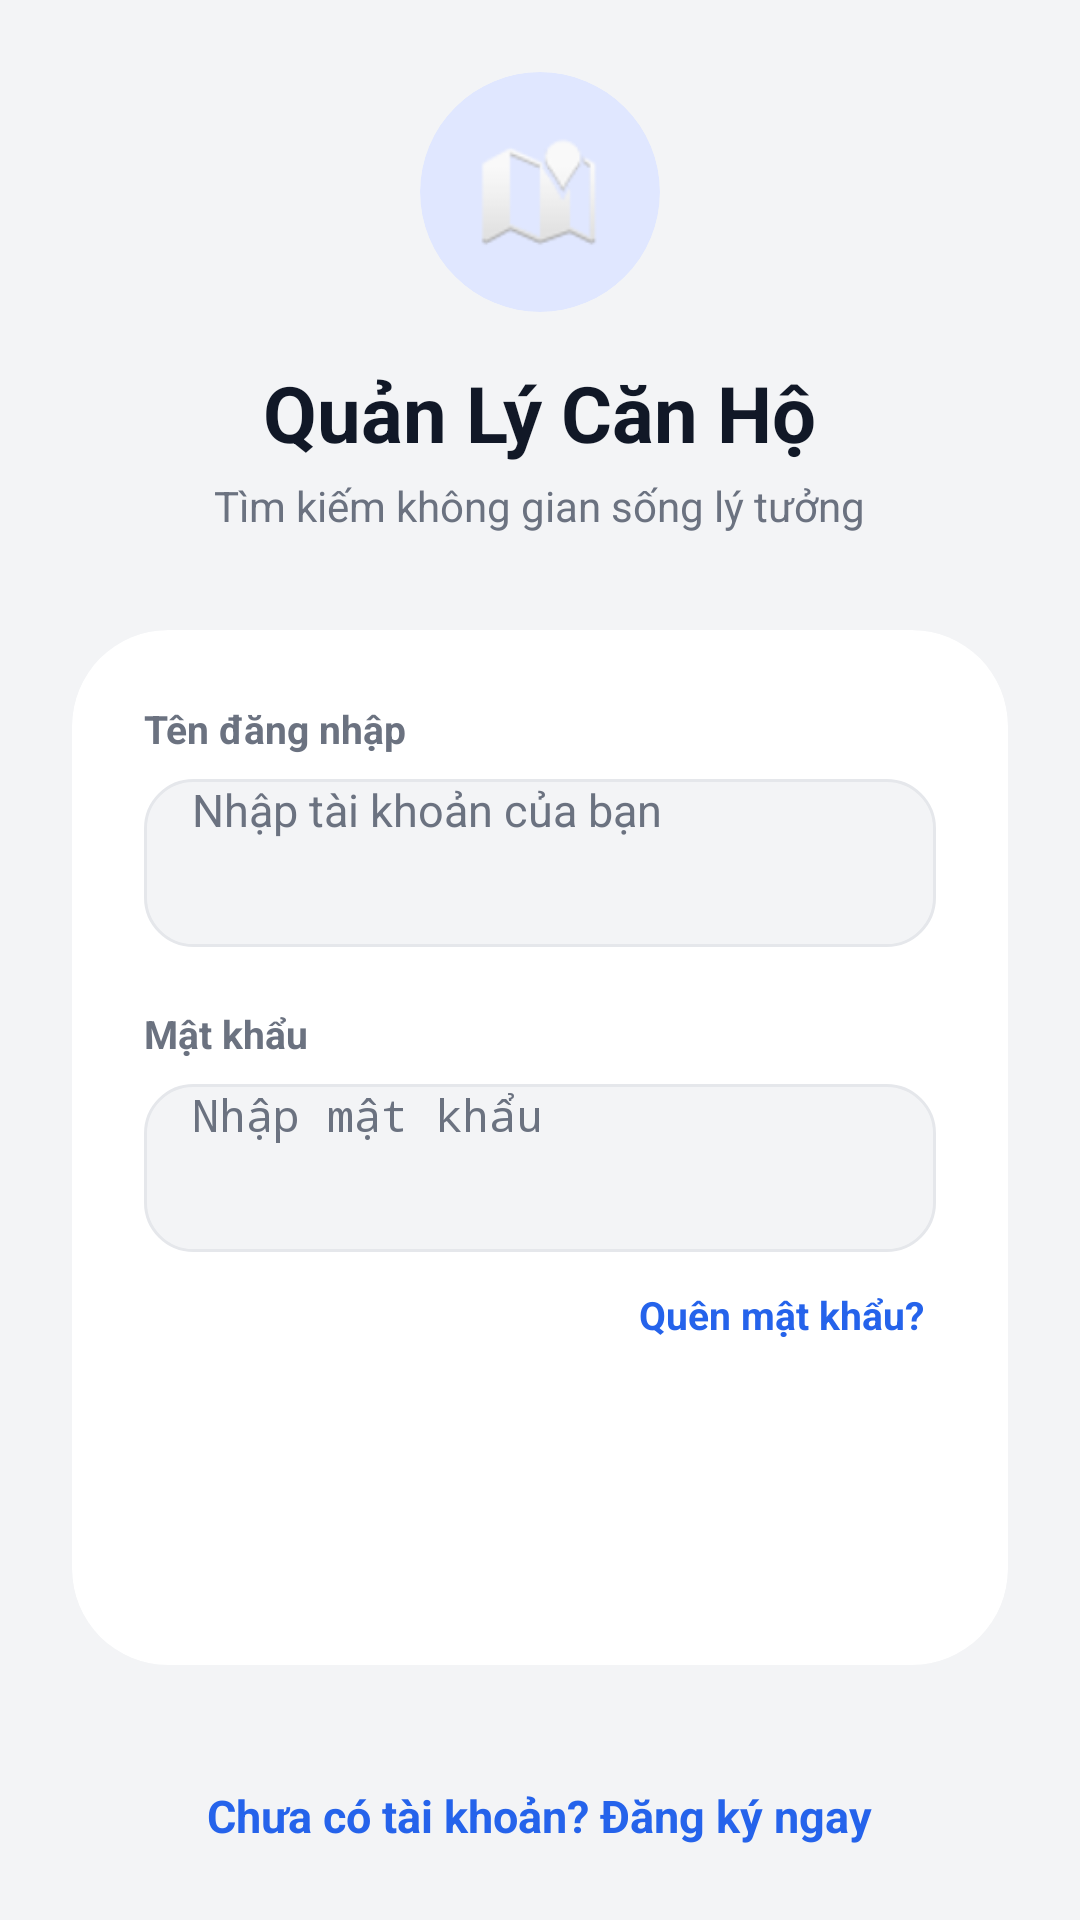

Locate icon controls on the screen. Image size 1080px×1920px, boxes as bbox=[x1, y1, x2, y2].
map: bbox=[482, 144, 595, 244]
